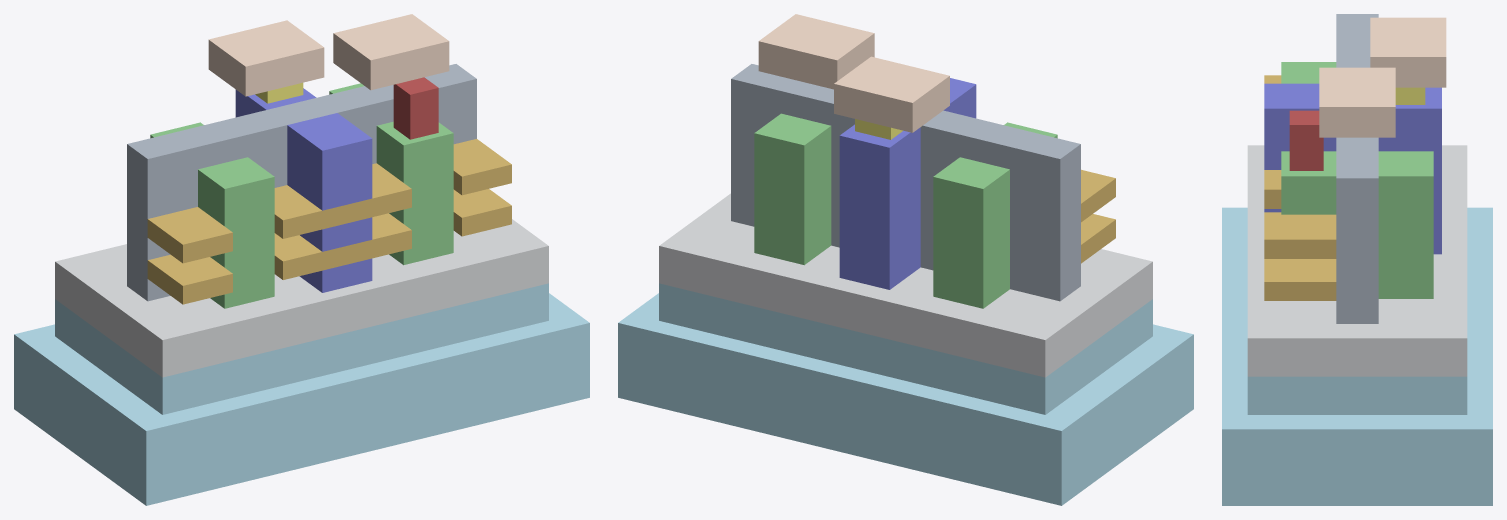
Rendered from simp_fs.glb.
3 views of the same model, side by side, from view 1: azimuth 30°, elevation 25°; view 2: azimuth 150°, elevation 25°; view 3: azimuth 270°, elevation 25° (orthographic). The views are drawn at different scales.
Visible parts, largest first — view 1: pwell, fox, pwell_u, wall, po, md_src, md_drn, m0_d, m0_g, w2, w1, wsr2 (+4 smaller); view 2: pwell, fox, wall, pwell_u, po, md_src, md_drn, m0_g, m0_d, wsr2, wsr1; view 3: pwell, fox, md_drn, wall, pwell_u, po, m0_d, m0_g, ws2, ws1, vd, md_src (+2 smaller).
Part boxes in pixels (left/top/right/bottom): pwell: left=14, top=293, right=589, bottom=505; fox: left=55, top=219, right=548, bottom=377; pwell_u: left=55, top=283, right=548, bottom=414; wall: left=127, top=64, right=476, bottom=301; po: left=235, top=88, right=372, bottom=292; md_src: left=150, top=122, right=274, bottom=308; md_drn: left=329, top=83, right=453, bottom=265; m0_d: left=333, top=14, right=449, bottom=90; m0_g: left=208, top=20, right=324, bottom=96; w2: left=274, top=163, right=411, bottom=238; w1: left=274, top=213, right=411, bottom=279; wsr2: left=147, top=207, right=232, bottom=263; pwell: left=618, top=293, right=1193, bottom=505; fox: left=659, top=193, right=1152, bottom=377; wall: left=731, top=64, right=1080, bottom=301; pwell_u: left=659, top=283, right=1152, bottom=414; po: left=839, top=78, right=976, bottom=289; md_src: left=933, top=122, right=1057, bottom=308; md_drn: left=754, top=113, right=831, bottom=265; m0_g: left=834, top=56, right=949, bottom=132; m0_d: left=758, top=14, right=874, bottom=89; wsr2: left=1081, top=169, right=1115, bottom=222; wsr1: left=1081, top=214, right=1115, bottom=263; pwell: left=1222, top=207, right=1492, bottom=505; fox: left=1247, top=145, right=1467, bottom=376; md_drn: left=1281, top=151, right=1433, bottom=298; wall: left=1336, top=14, right=1378, bottom=323; pwell_u: left=1247, top=376, right=1467, bottom=414; po: left=1264, top=83, right=1441, bottom=254; m0_d: left=1319, top=67, right=1395, bottom=137; m0_g: left=1370, top=17, right=1446, bottom=87; ws2: left=1264, top=214, right=1336, bottom=258; ws1: left=1264, top=259, right=1336, bottom=300; vd: left=1289, top=110, right=1323, bottom=170; md_src: left=1281, top=62, right=1336, bottom=83.
Size of the model in its own units: 124 by 92 by 64.
